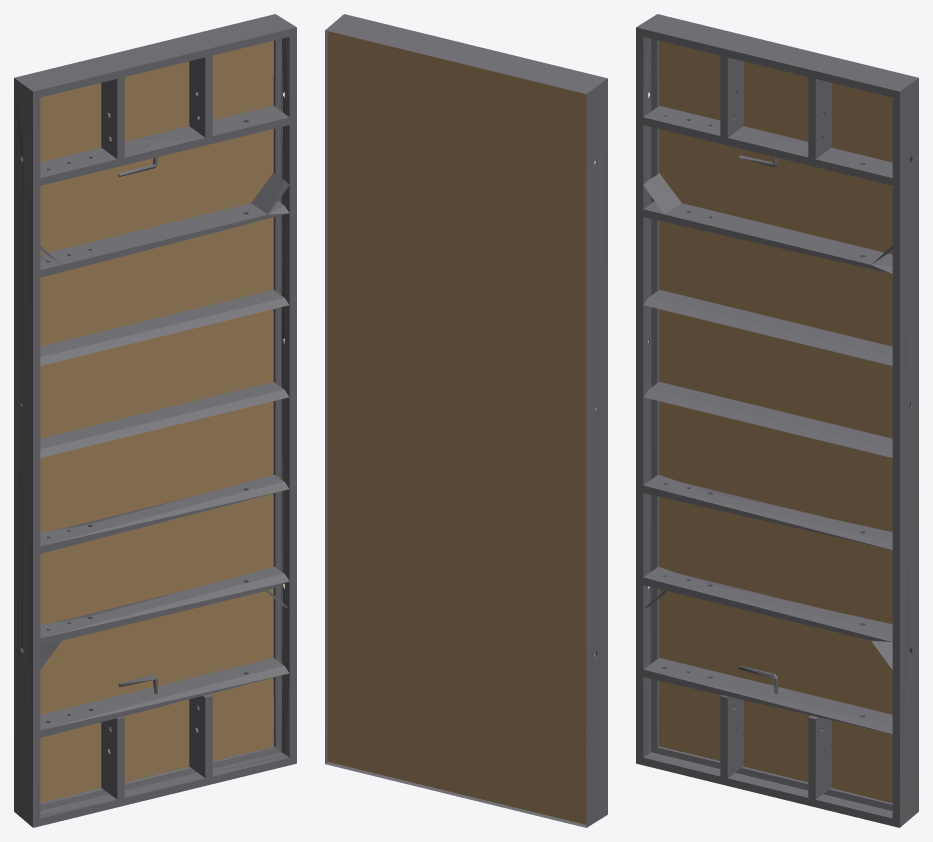
3 renders of one model, left to right at view 1: azimuth 30°, elevation 25°; view 2: azimuth 150°, elevation 25°; view 3: azimuth 330°, elevation 25°, orthographic.
Visible parts, largest first — view 1: 24904240; view 2: 24904240; view 3: 24904240.
Boxes of the visible parts, x1=… form: 24904240: x1=14, y1=14, x2=296, y2=827; 24904240: x1=325, y1=14, x2=607, y2=827; 24904240: x1=636, y1=14, x2=918, y2=827.
Bounding box in the file's own units: 0.9 × 2.4 × 0.12.
